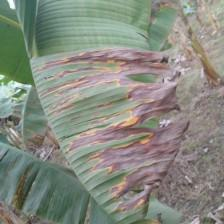sigatoka: (28, 0, 190, 224), (0, 141, 113, 224)
